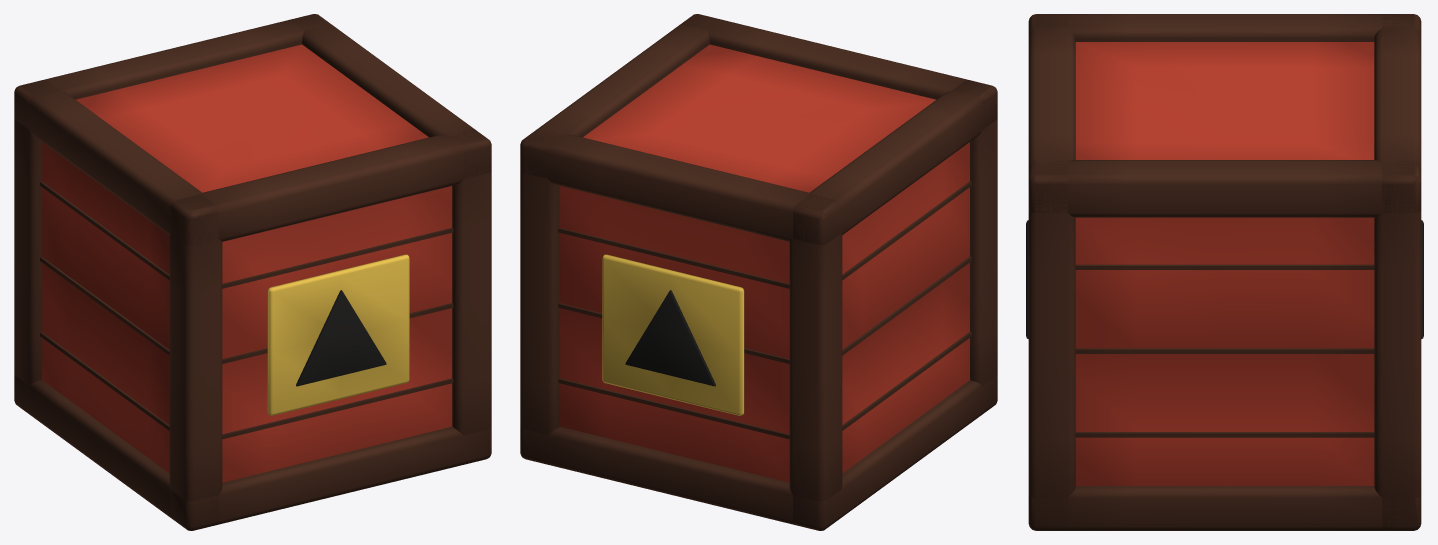
Rendered from crate.glb.
3 views of the same model, side by side, from view 1: azimuth 30°, elevation 25°; view 2: azimuth 150°, elevation 25°; view 3: azimuth 270°, elevation 25° (orthographic). The views are drawn at different scales.
Parts seen in each view (by area): view 1: Crate; view 2: Crate; view 3: Crate.
Part boxes in pixels (left/top/right/bottom): Crate: left=14, top=14, right=491, bottom=530; Crate: left=520, top=14, right=997, bottom=530; Crate: left=1026, top=14, right=1423, bottom=530.
Size of the model in its own units: 1 by 1 by 1.01.
